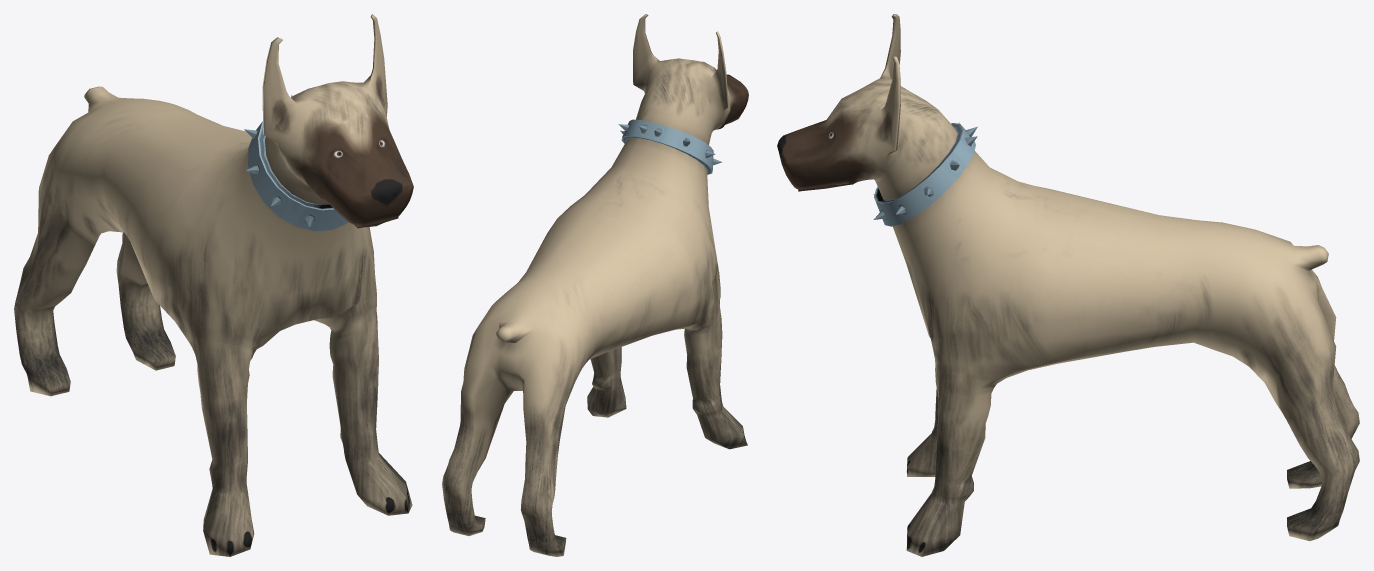
File: Dog.obj
3 views of the same model, side by side, from view 1: azimuth 30°, elevation 25°; view 2: azimuth 150°, elevation 25°; view 3: azimuth 270°, elevation 25° (orthographic). The views are drawn at different scales.
Parts seen in each view (by area): view 1: polySurface1; view 2: polySurface1; view 3: polySurface1.
Boxes of the visible parts, x1,y1,x2,y2 form: polySurface1: [14, 14, 413, 556]; polySurface1: [442, 14, 748, 556]; polySurface1: [777, 14, 1359, 556].
Size of the model in its own units: 45.4 by 110 by 122.
